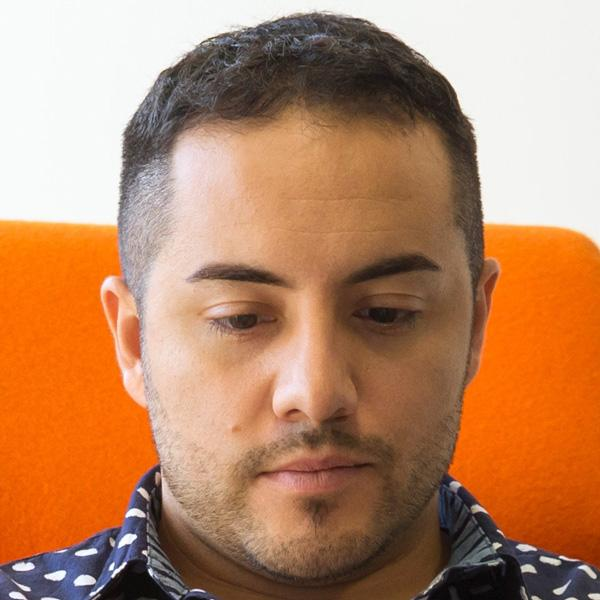Eyes: (193, 288, 283, 346), (344, 284, 431, 340)
